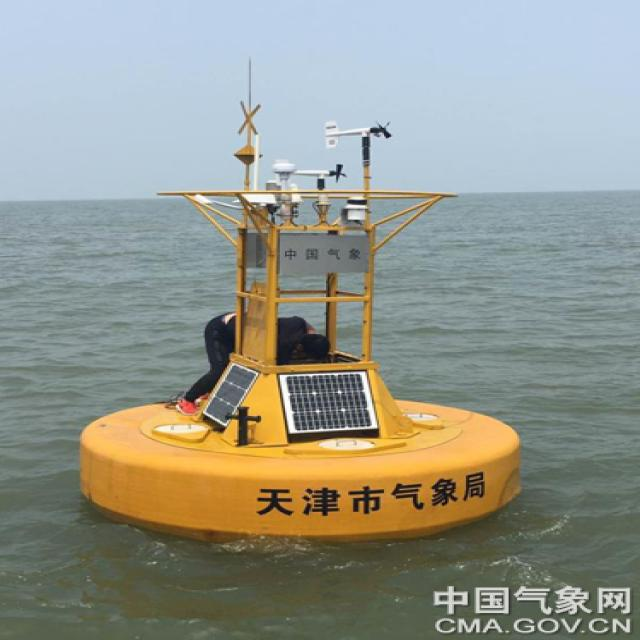buoy: (55, 81, 522, 533)
